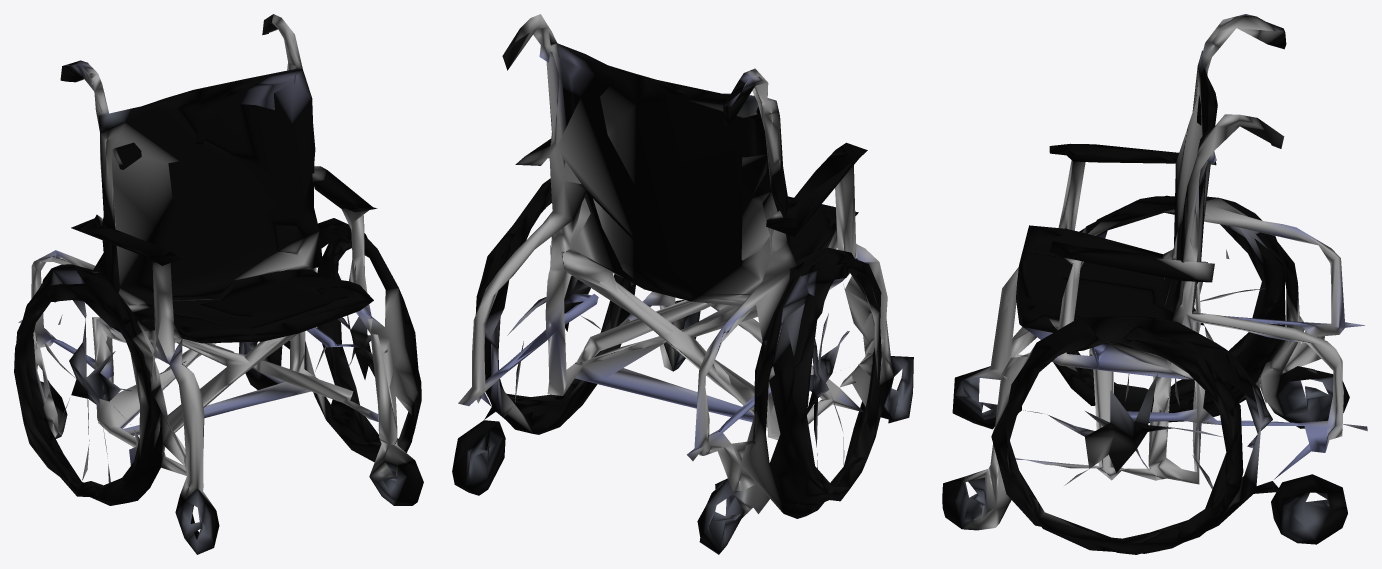
The model's file is gen3d-wheelchair-lod0.glb.
3 views of the same model, side by side, from view 1: azimuth 30°, elevation 25°; view 2: azimuth 150°, elevation 25°; view 3: azimuth 270°, elevation 25° (orthographic). The views are drawn at different scales.
Parts seen in each view (by area): view 1: part_0; view 2: part_0; view 3: part_0.
Boxes of the visible parts, x1,y1,x2,y2 form: part_0: [14, 14, 423, 554]; part_0: [452, 14, 913, 554]; part_0: [942, 14, 1367, 554].
Size of the model in its own units: 0.8041 by 0.9953 by 0.9014.
